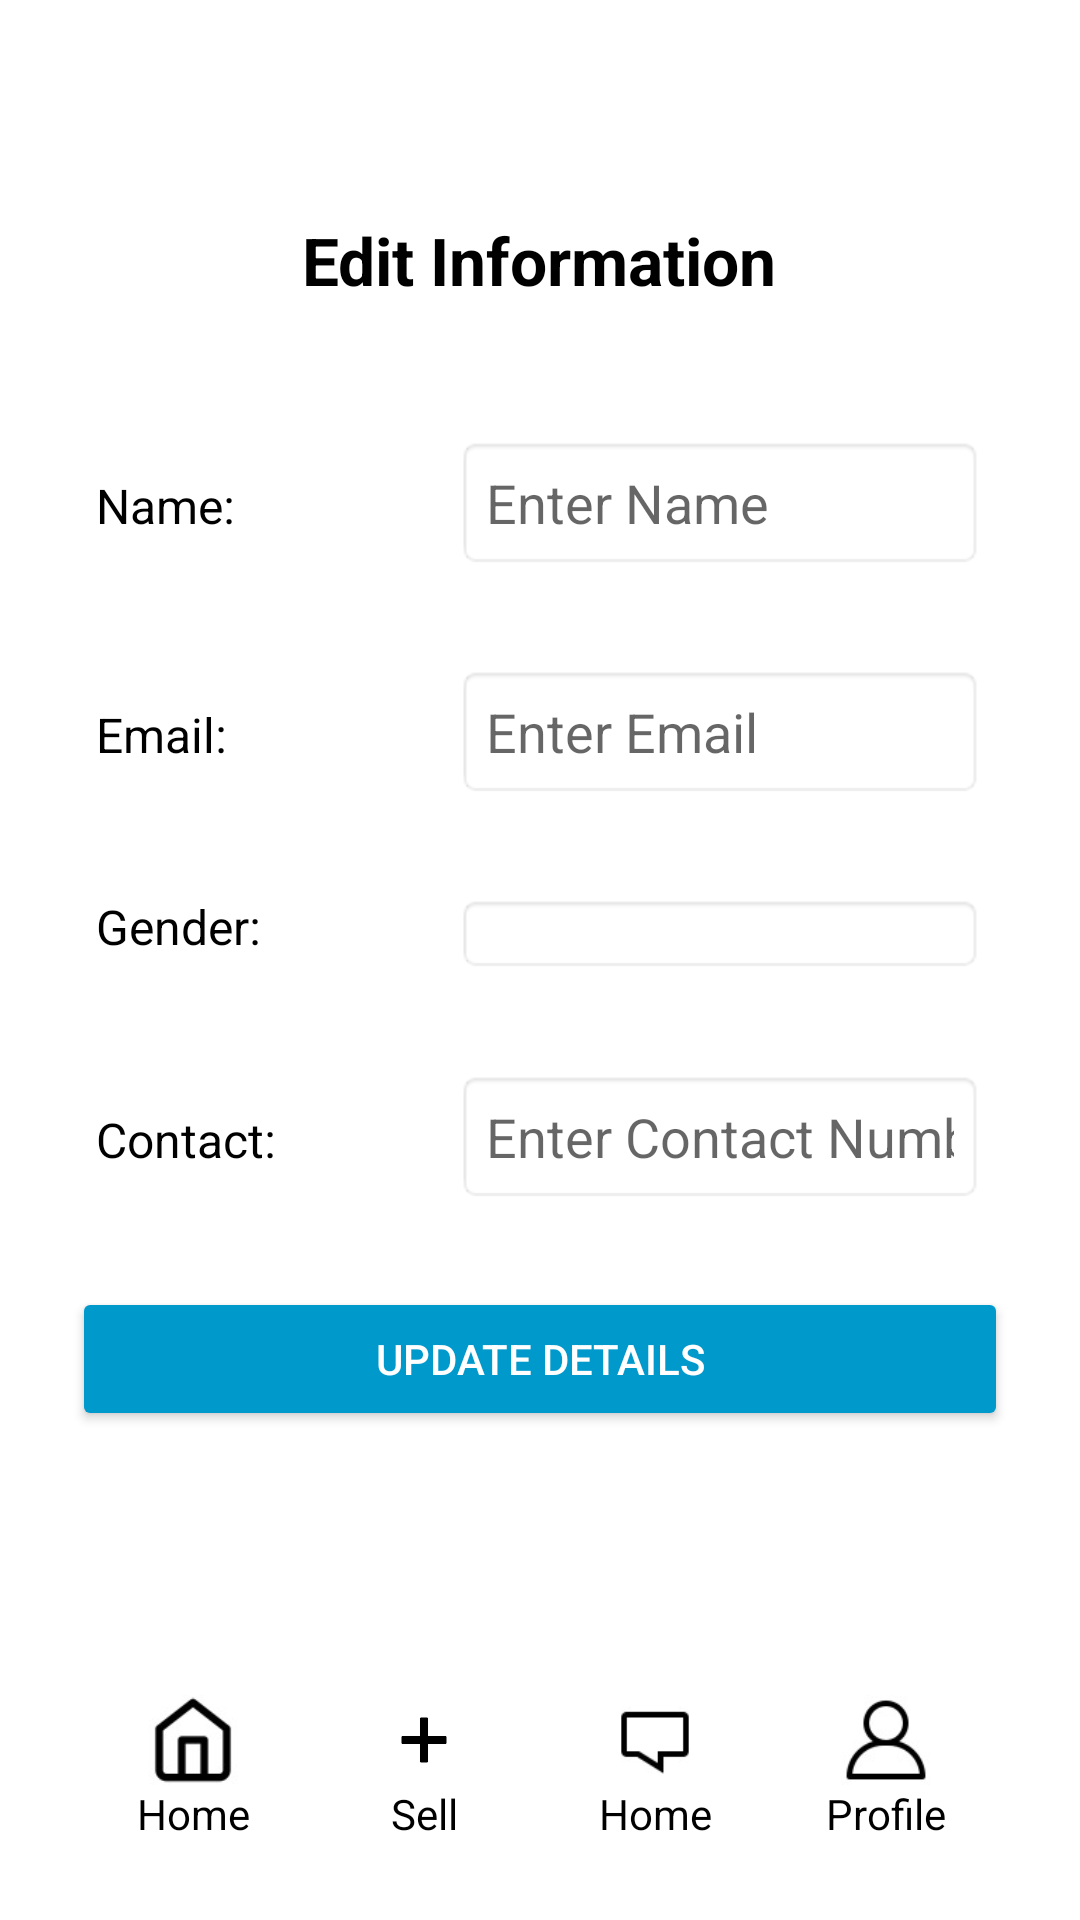

Where icons sit on this 1080w x 1920h app screen, as {"left": x1, "top": y1, "right": x2, "bottom": y2}:
chat: {"left": 621, "top": 1711, "right": 689, "bottom": 1774}
